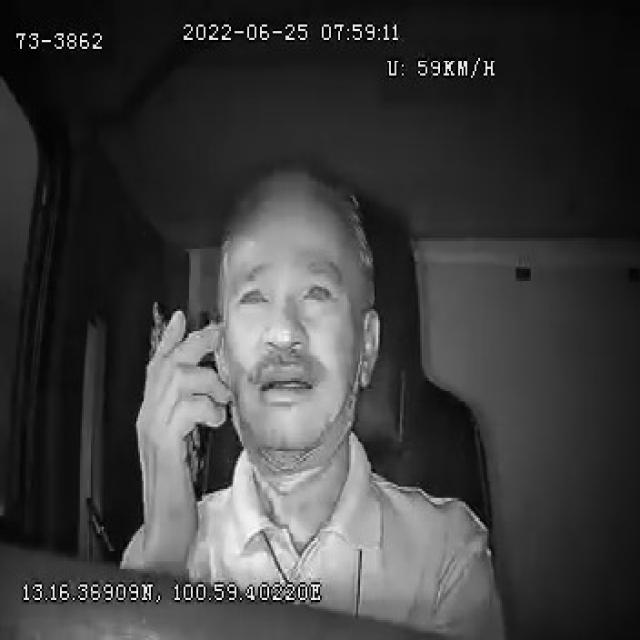phone: (145, 294, 211, 504)
